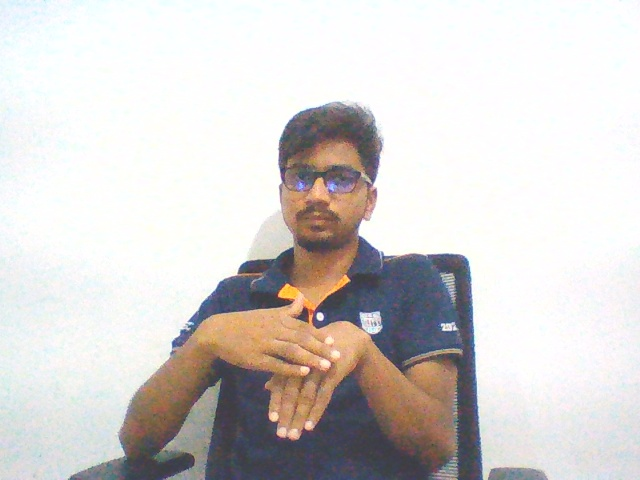pineapple: (192, 287, 370, 451)
